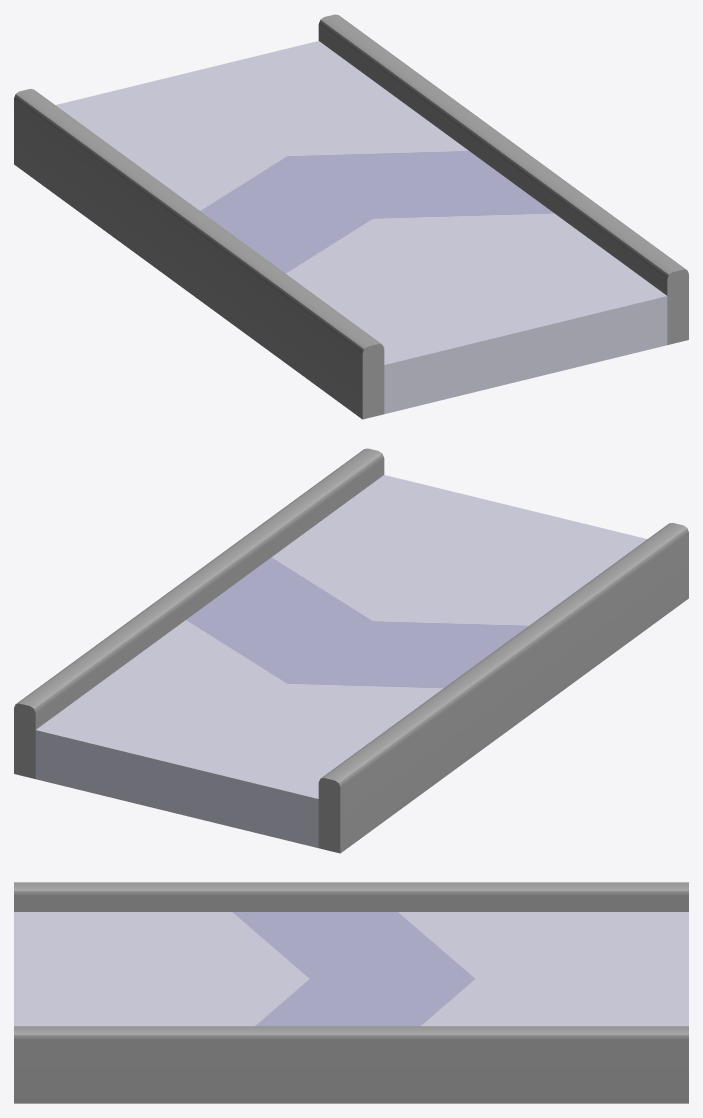
File: zemin2mat.fbx
3 views of the same model, one above another, from view 1: azimuth 30°, elevation 25°; view 2: azimuth 150°, elevation 25°; view 3: azimuth 270°, elevation 25° (orthographic). The views are drawn at different scales.
Visible parts, largest first — view 1: zemin2lideneme; view 2: zemin2lideneme; view 3: zemin2lideneme.
Boxes of the visible parts, box(x1,y1,x2,y2) form: zemin2lideneme: box(14, 14, 688, 419); zemin2lideneme: box(14, 448, 688, 853); zemin2lideneme: box(14, 882, 688, 1103).
Size of the model in its own units: 346 by 72.55 by 640.
2 materials, 1 textured.
